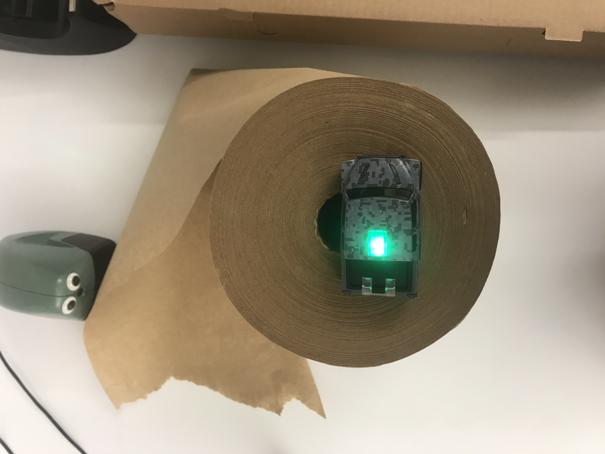MXT: (342, 155, 423, 299)
